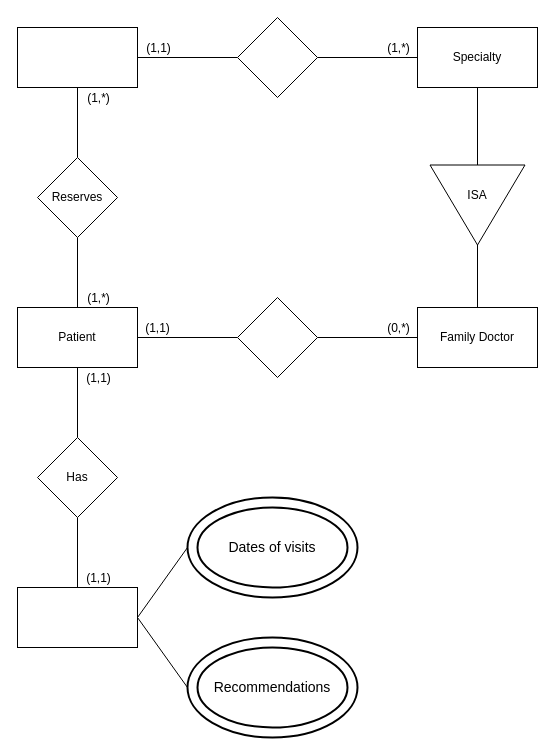
This 555x756 diagram has some shape labels left out. Here are the shapes that lost their labels. From the top down, the centre of each, then its label:
[77,57]: Doctor
[277,57]: Is of a
[277,337]: Assigned to
[77,617]: Patient card
